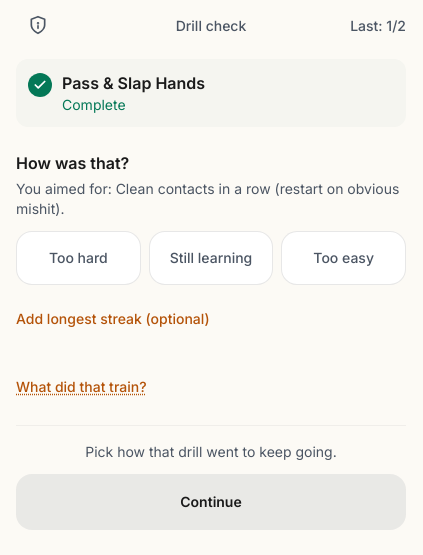
Scenario: DrillCheckScreen rung reflection (D177) › never gates Continue: revealed without a chip stays disabled, chip without reveal enables
The width and height of the screenshot is (423, 555).
Expected: the element with test id "per-drill-capture" is shown, [16, 151, 406, 341]
Note: Direction 1: pulling the reflection satisfies nothing.
What coordinates should you click on to do the following:
click the button with test id "drill-check-reflection-trigger"
I would click on:
 (81, 387)
Its box is [16, 365, 146, 409].
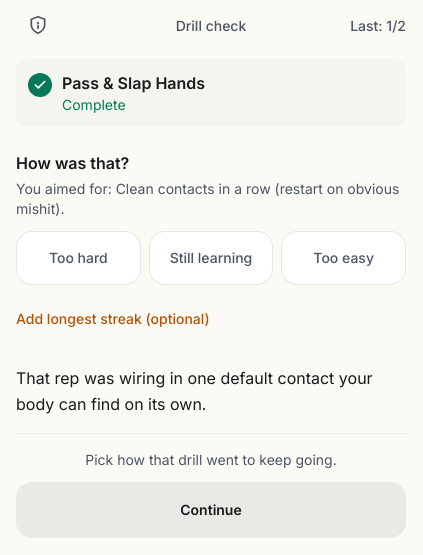
Expected: the button "Continue" is disabled, [16, 482, 406, 538]
Expected: the text "Pick how that drill went to keep going." is shown, [85, 451, 337, 468]
What coordinates should you click on to do the following:
click the radio button labelled "Still learning"
I would click on:
 (211, 258)
Its box is [149, 231, 273, 285].
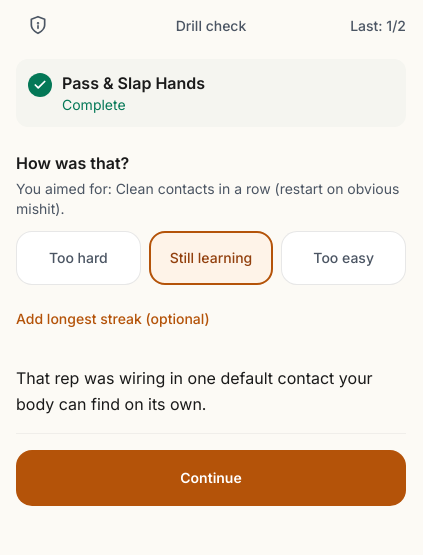
Now the button "Continue" is enabled, box [16, 450, 406, 506]
